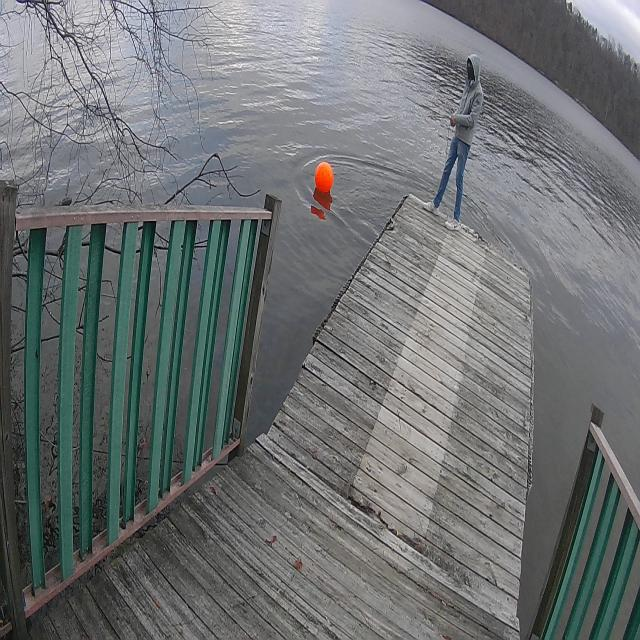Buoy: (310, 159, 338, 199)
